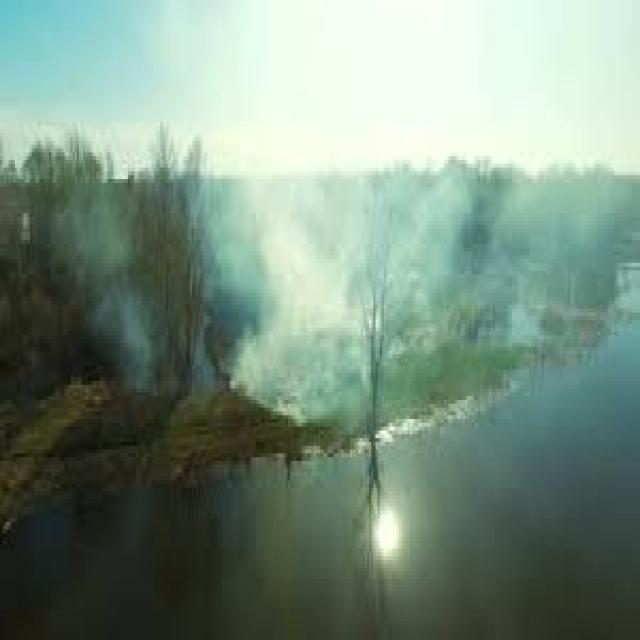Smoke: (210, 118, 359, 429), (44, 131, 207, 404), (358, 146, 521, 405), (523, 149, 640, 378)
